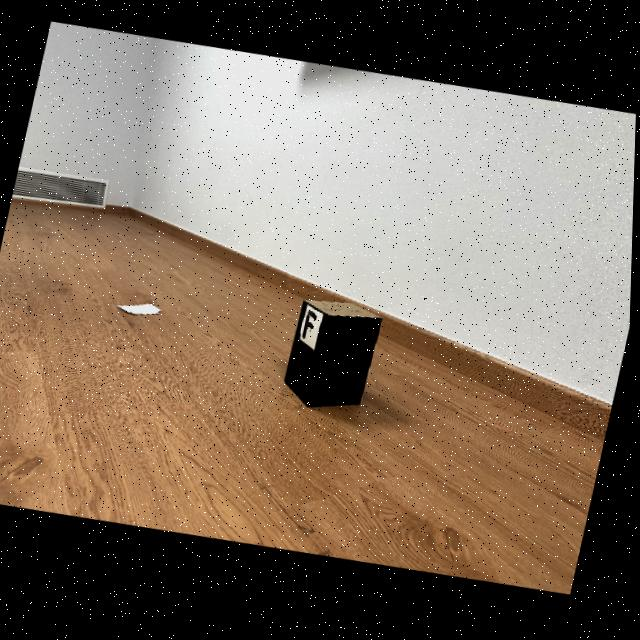F: (305, 313, 319, 342)
